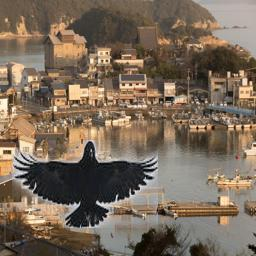Crow: (12, 140, 158, 228)
